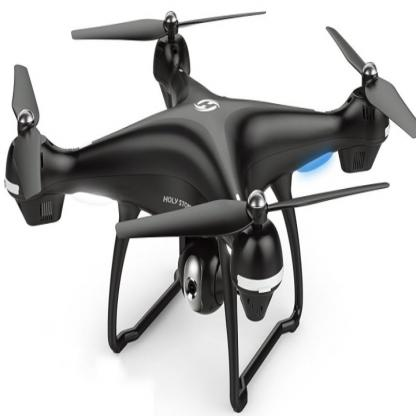drone: (0, 6, 412, 319)
